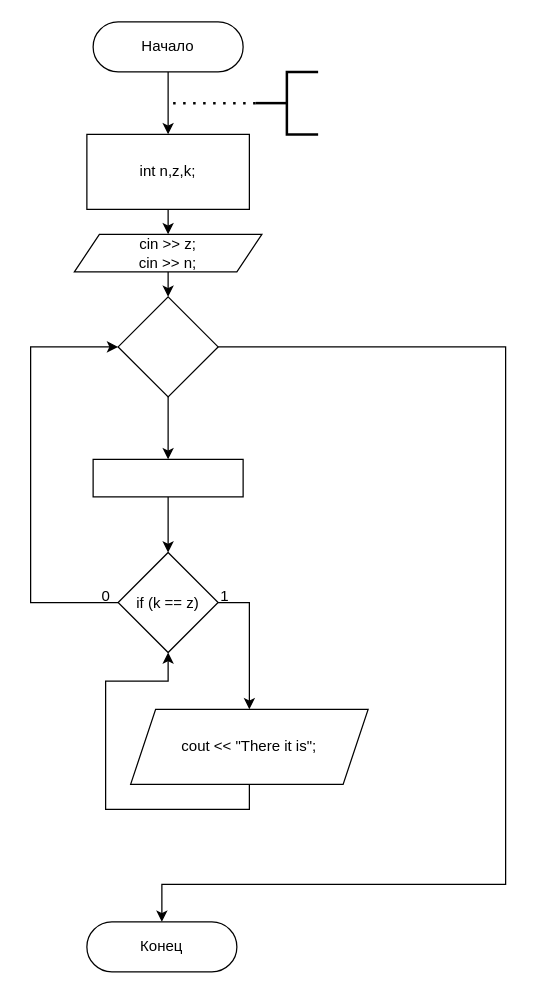
The diagram is 538 pixels wide and 994 high, and some of its shapes have lost their labels. Here are the shapes that lost their labels. From the top down, the centre of each, then its label:
At point 286,102: "#include <iostream> using namespace std; int main()".
At point 167,346: "while (n > 0)".
At point 167,477: "k = n % 10;".
